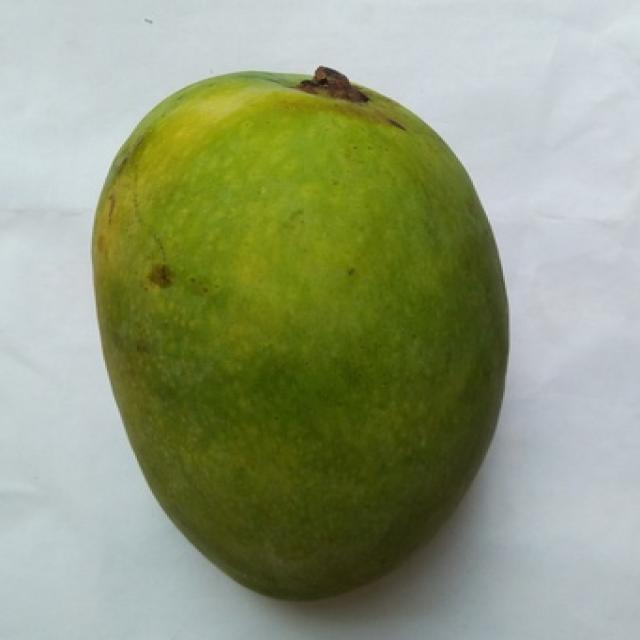Mango: (92, 73, 507, 598)
